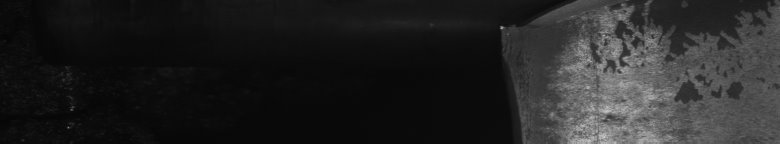kb: (537, 4, 775, 128)
